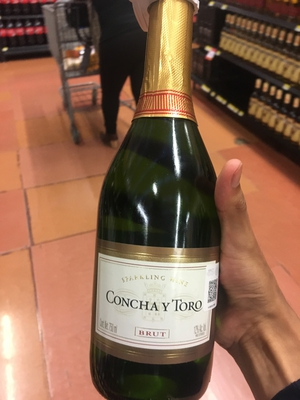brut: (86, 37, 240, 396)
